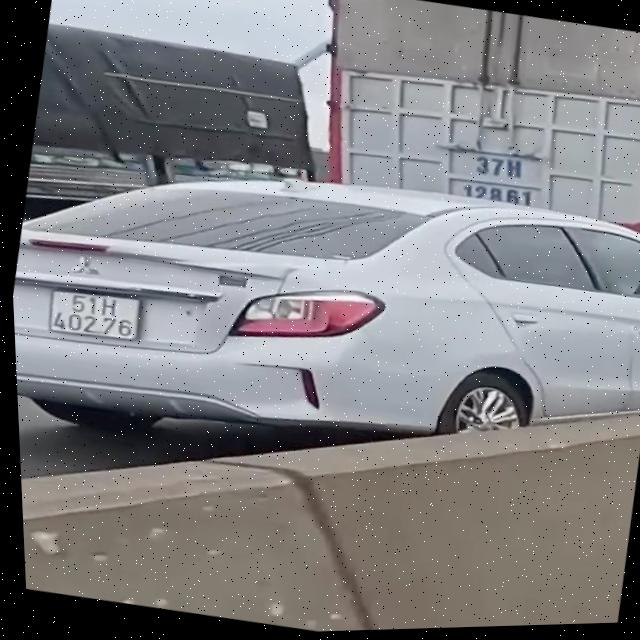car: (6, 119, 640, 521)
plate: (40, 284, 151, 349)
